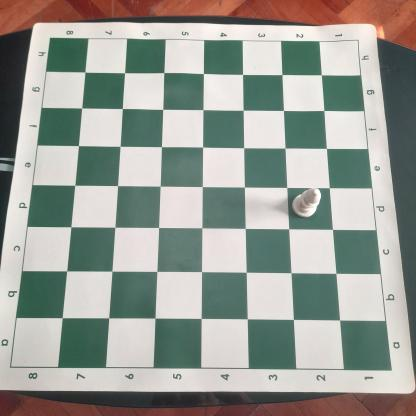white-bishop: (291, 186, 321, 219)
